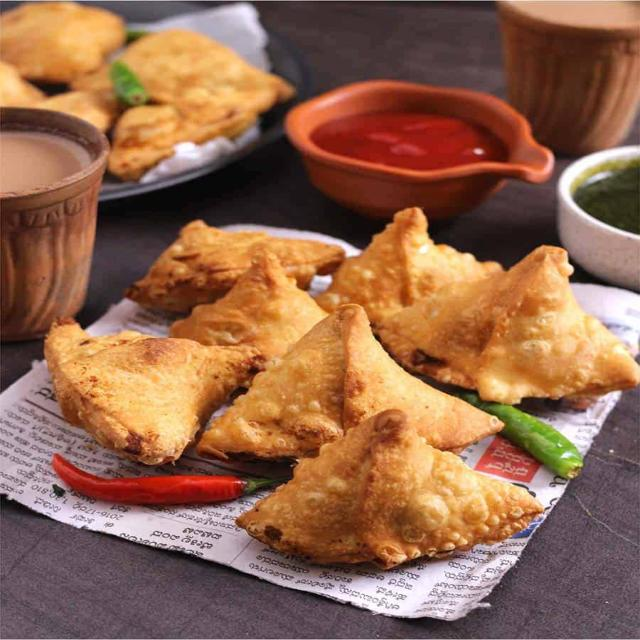SAMOSA: (236, 409, 543, 569), (199, 304, 502, 458), (368, 247, 639, 404), (44, 322, 261, 465), (201, 314, 346, 458), (126, 220, 346, 314), (320, 208, 501, 319), (171, 251, 326, 359)
